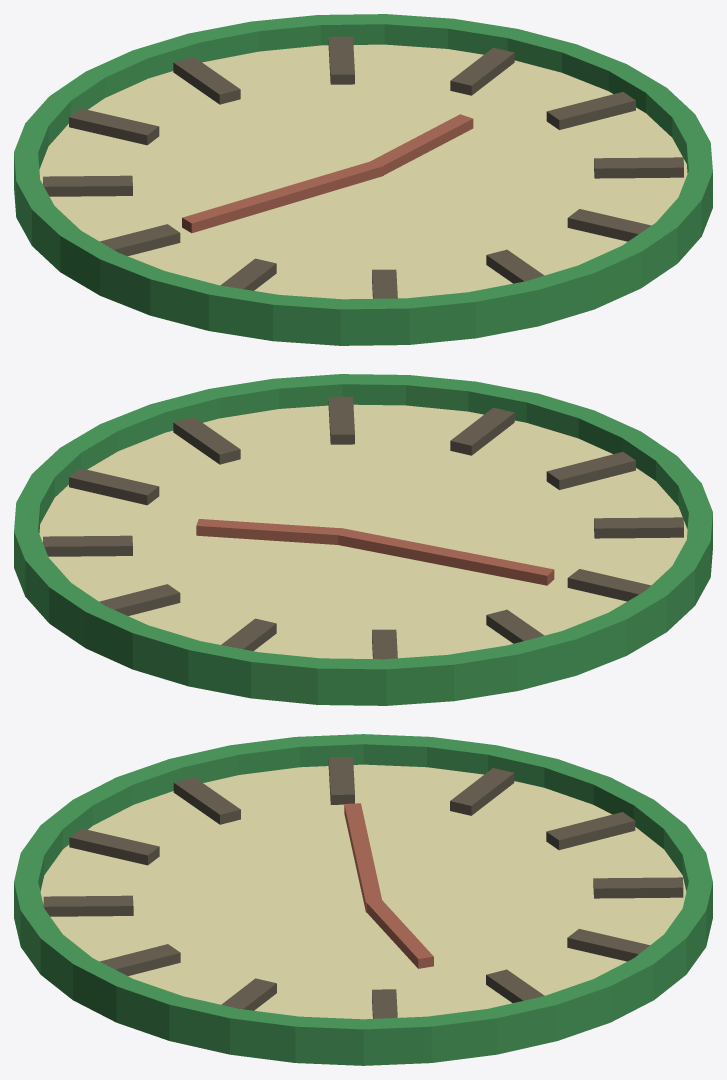
Rendered from Jam dinding.fbx.
3 renders of one model, top to bottom at view 1: azimuth 30°, elevation 25°; view 2: azimuth 150°, elevation 25°; view 3: azimuth 270°, elevation 25°, orthographic.
Visible parts, largest first — view 1: Circle, Circle.001, Cube, Cube.001, Cube.002; view 2: Circle, Circle.001, Cube, Cube.001, Cube.002; view 3: Circle, Circle.001, Cube, Cube.001, Cube.002.
Boxes of the visible parts, bbox=[...] form: Circle: bbox=[39, 44, 687, 299]; Circle.001: bbox=[14, 14, 712, 345]; Cube: bbox=[43, 36, 683, 298]; Cube.001: bbox=[182, 161, 383, 233]; Cube.002: bbox=[370, 114, 473, 174]; Circle: bbox=[39, 404, 687, 658]; Circle.001: bbox=[14, 374, 712, 705]; Cube: bbox=[43, 396, 683, 659]; Cube.001: bbox=[338, 528, 554, 585]; Cube.002: bbox=[196, 519, 340, 544]; Circle: bbox=[40, 764, 686, 1019]; Circle.001: bbox=[14, 734, 712, 1065]; Cube: bbox=[43, 757, 683, 1018]; Cube.001: bbox=[344, 803, 381, 912]; Cube.002: bbox=[366, 900, 433, 968].
Size of the model in its own units: 430 by 24.71 by 430.
